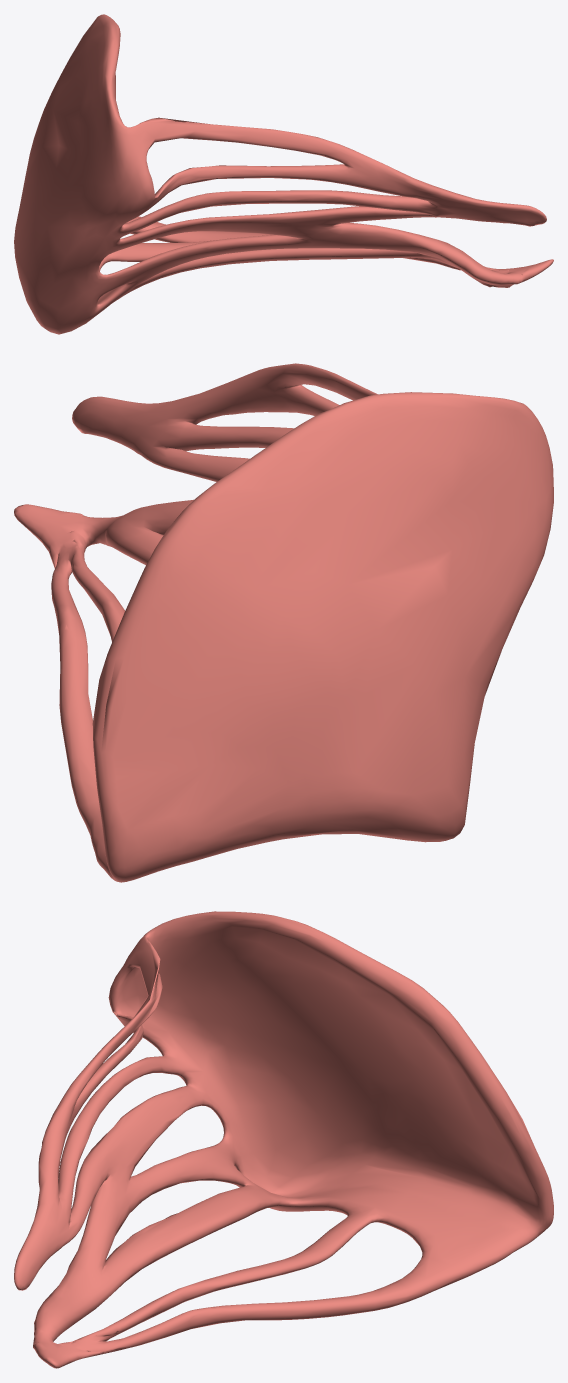
3 views of the same model, one above another, from view 1: azimuth 30°, elevation 25°; view 2: azimuth 150°, elevation 25°; view 3: azimuth 270°, elevation 25° (orthographic). The views are drawn at different scales.
Visible parts, largest first — view 1: leafletreightv.007; view 2: leafletreightv.007; view 3: leafletreightv.007.
Part boxes in pixels (left/top/right/bottom): leafletreightv.007: left=14, top=14, right=553, bottom=334; leafletreightv.007: left=14, top=363, right=553, bottom=882; leafletreightv.007: left=14, top=911, right=553, bottom=1368.
Size of the model in its own units: 1.09 by 0.7196 by 1.11.
